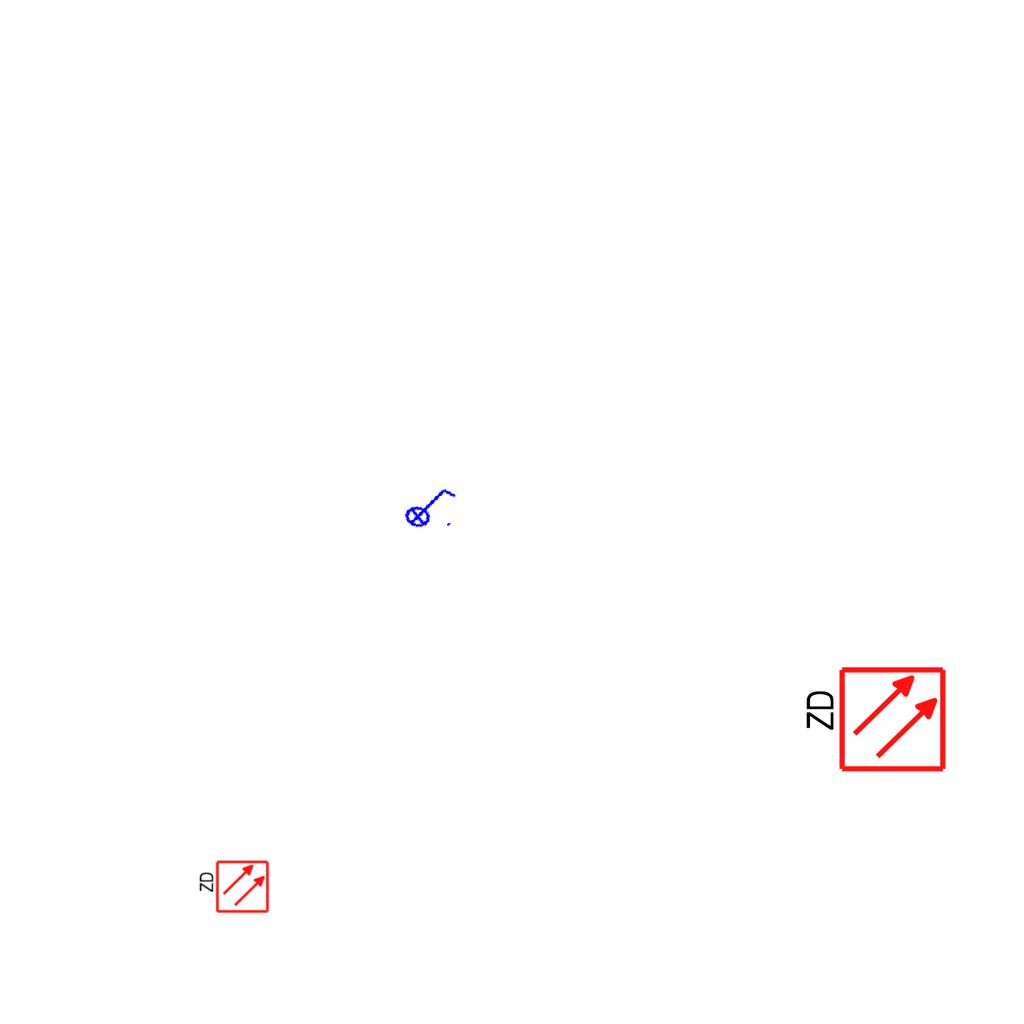Ausschalter_beleuchtet: (396, 476, 462, 536)
ZD_Melder_in_Zwischendecke_mit_Revisionsoeffnung_mind_40_x_40_cm: (799, 664, 948, 778), (196, 859, 270, 916)
